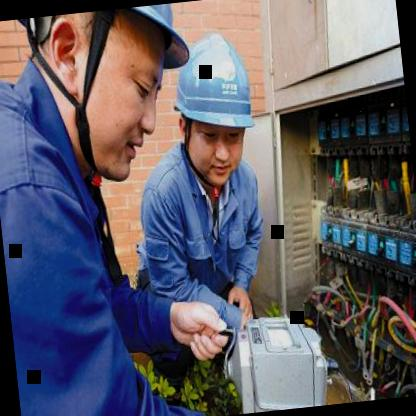helmet: (28, 2, 198, 185), (158, 17, 266, 196)
